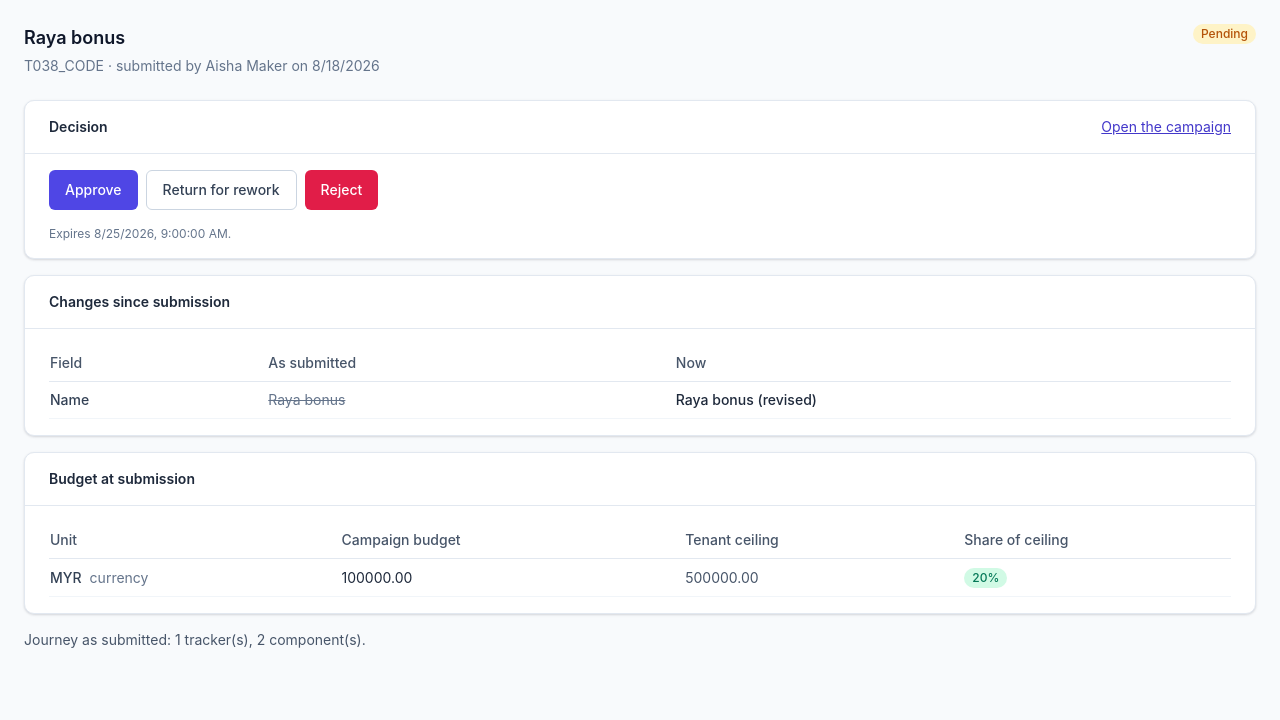
T-038 · ApprovalDetailPage — the states around the decision › closes the dialog and clears the mutation error on cancel
Step 1. Click the button "Reject" → (341, 190), box 305,170 -> 378,210
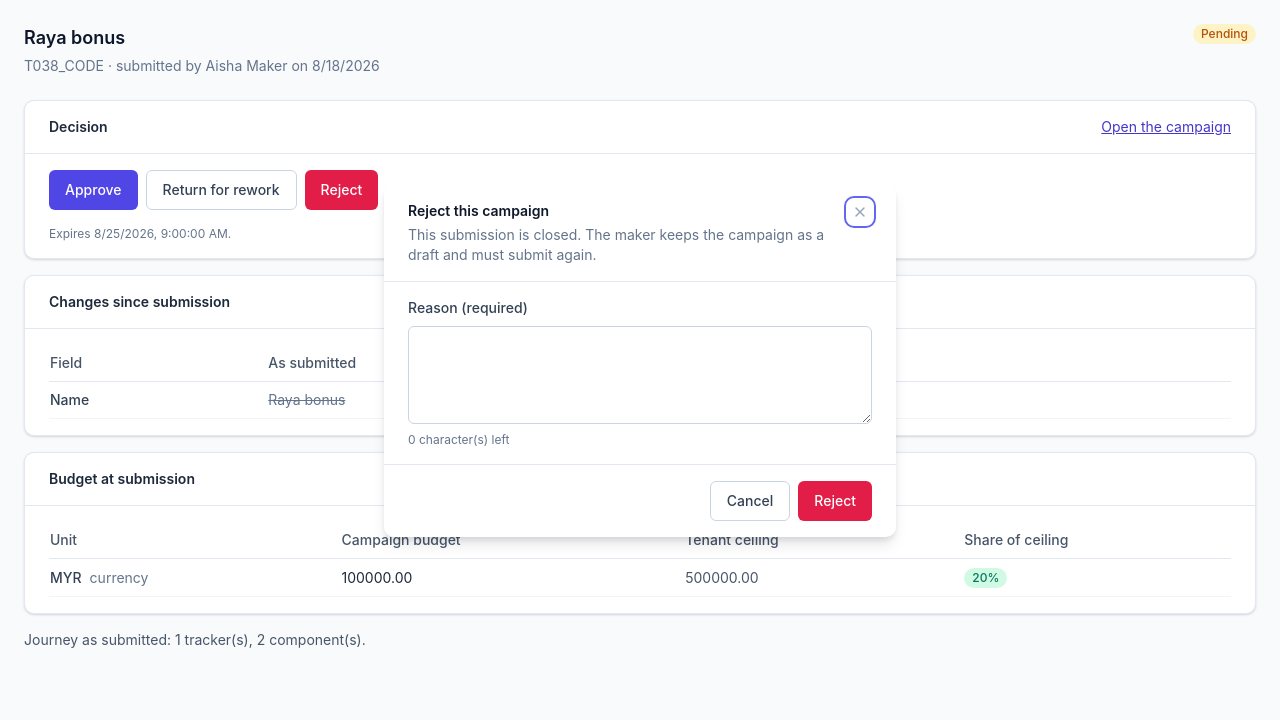
Step 2. Click the button "Cancel" → (750, 500), box 710,480 -> 790,520
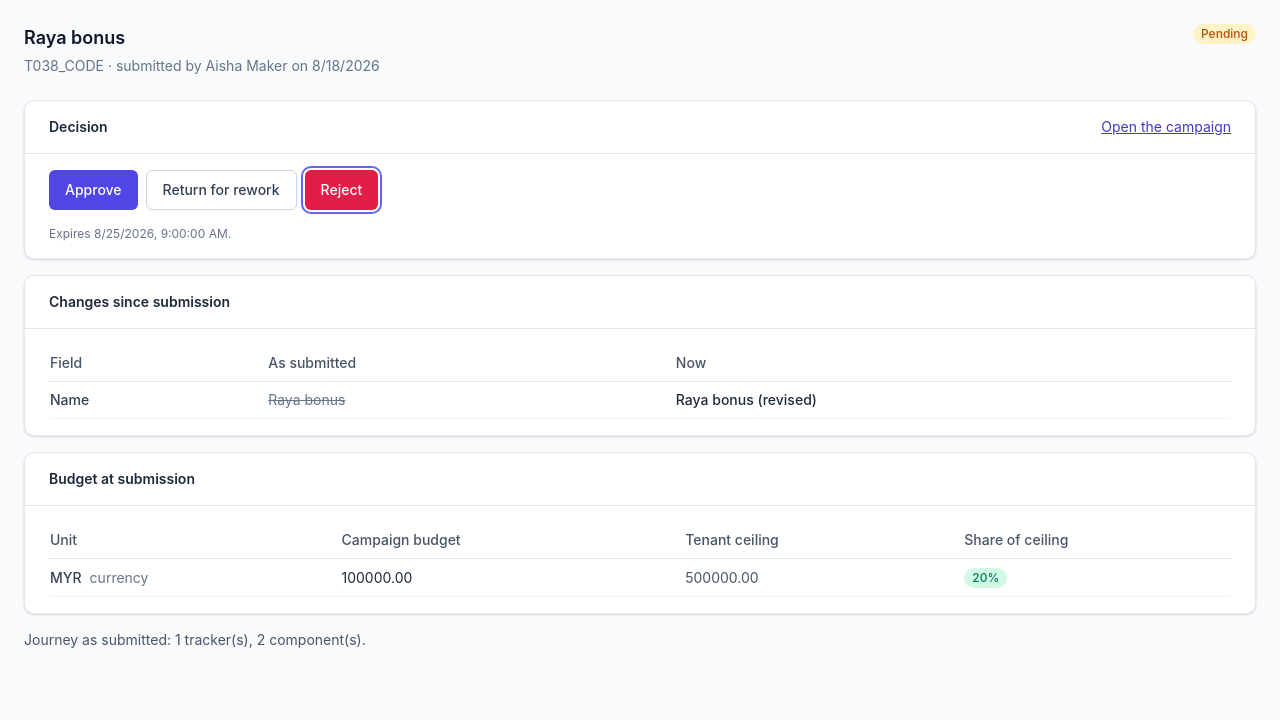
Check: the dialog is gone
